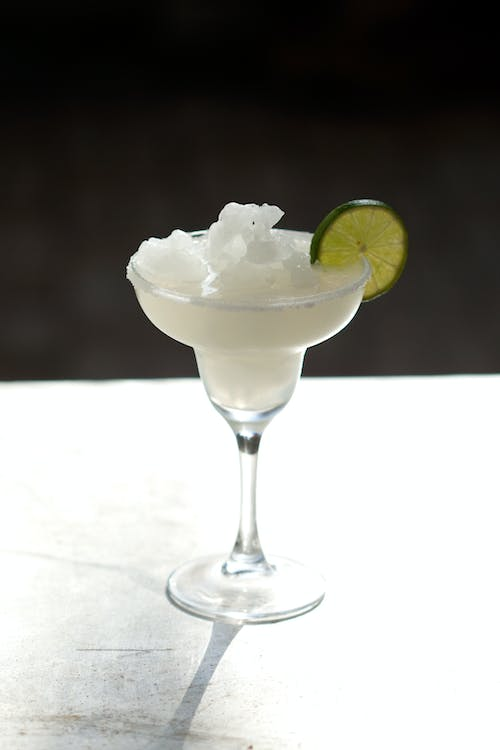alcohol: (123, 226, 371, 628)
